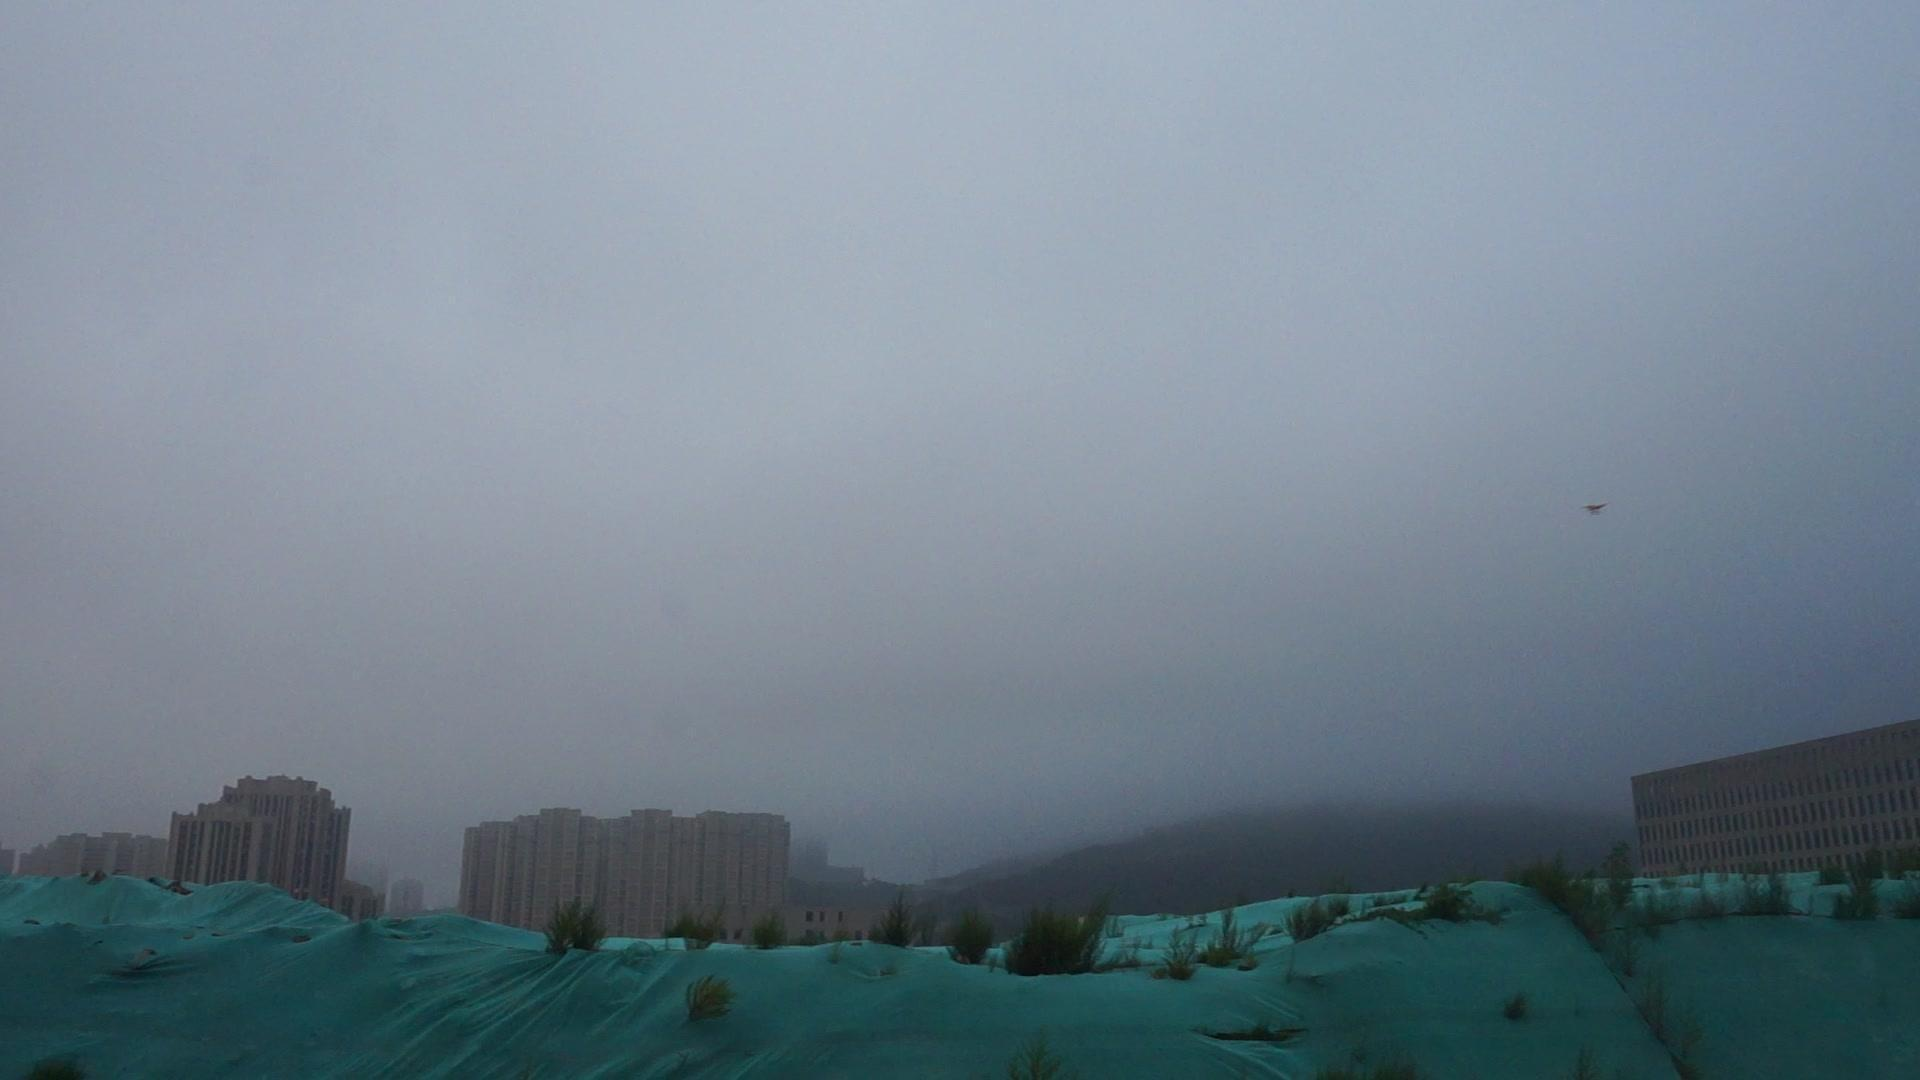UAV: (1581, 504, 1609, 516)
